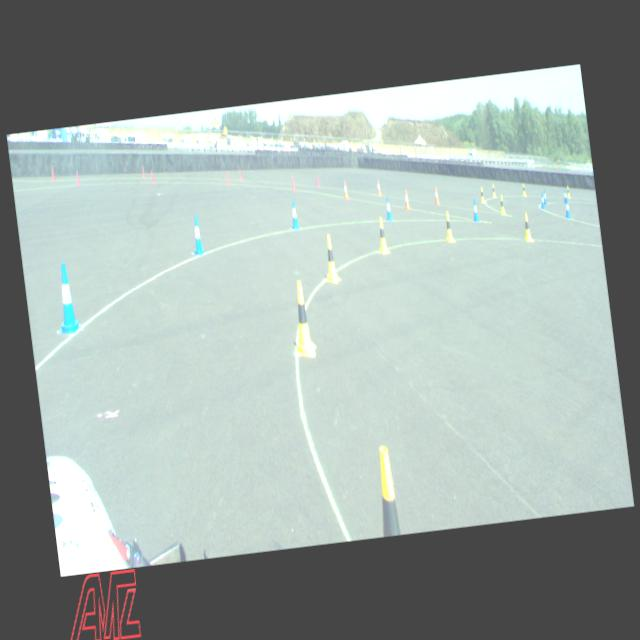blue_cone: (50, 262, 82, 336), (188, 213, 205, 254), (288, 198, 300, 230), (383, 196, 393, 222), (470, 198, 479, 222), (564, 198, 571, 218), (539, 192, 546, 210), (542, 188, 548, 205), (562, 190, 568, 203)
orange_cone: (402, 188, 411, 210), (432, 186, 440, 205), (374, 178, 382, 196), (342, 180, 349, 200)
yellow_cone: (372, 444, 400, 536), (286, 279, 316, 358), (320, 232, 340, 284), (374, 216, 390, 254), (442, 210, 455, 243), (521, 212, 532, 242), (497, 193, 505, 214), (478, 186, 486, 203), (564, 184, 570, 198), (490, 183, 496, 197), (520, 183, 526, 196)
